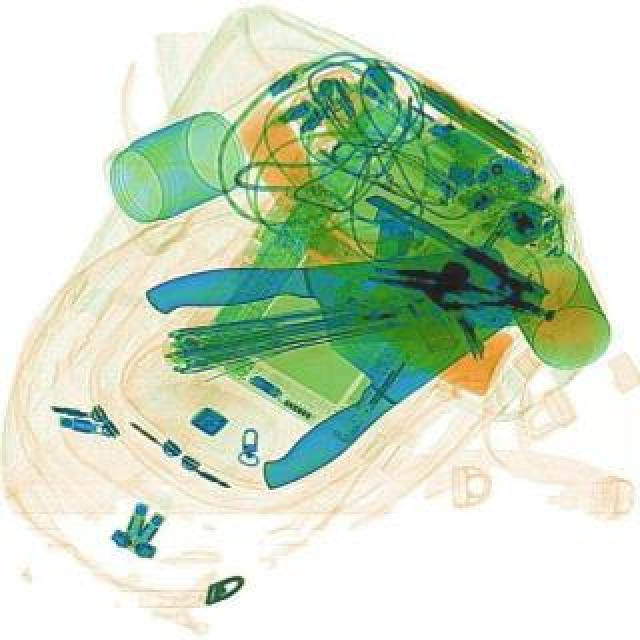knife: (216, 226, 544, 502), (146, 242, 522, 366)
